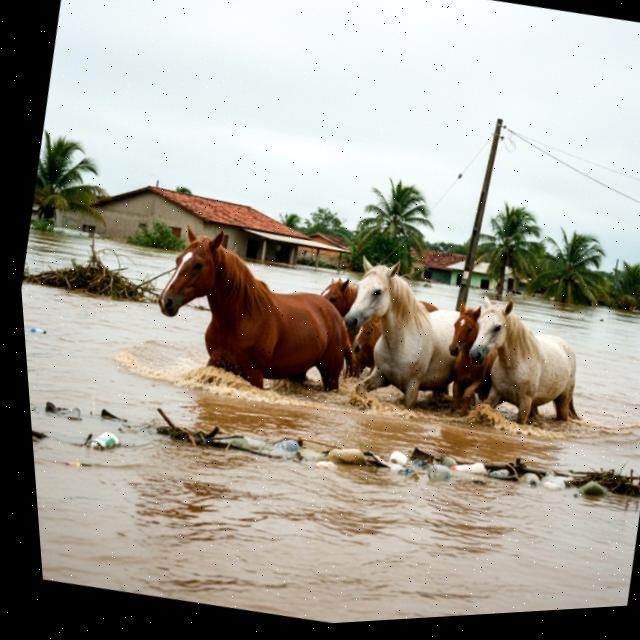horse: (128, 199, 379, 426), (314, 247, 490, 431), (444, 288, 604, 456), (304, 249, 452, 344), (429, 302, 503, 424), (339, 308, 399, 384)
